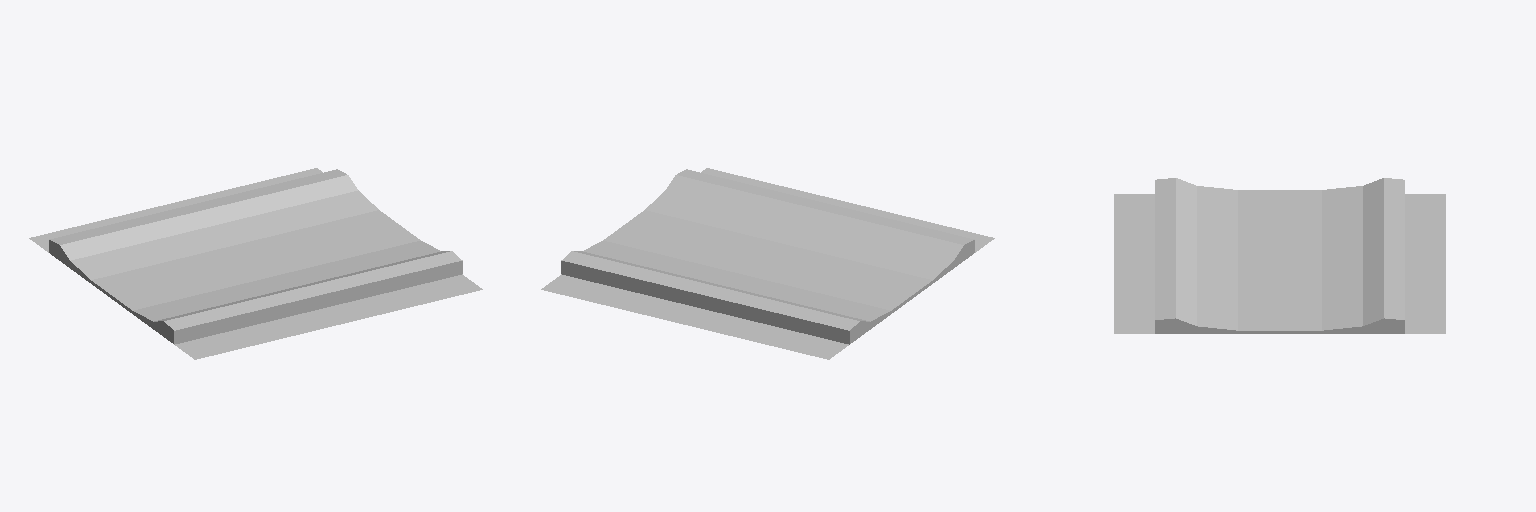
The model's file is StraightTrack.obj.
The picture shows the model from 3 angles: view 1: azimuth 30°, elevation 25°; view 2: azimuth 150°, elevation 25°; view 3: azimuth 270°, elevation 25°; orthographic projection.
Bounding box in the file's own units: 8 × 0.4203 × 8.